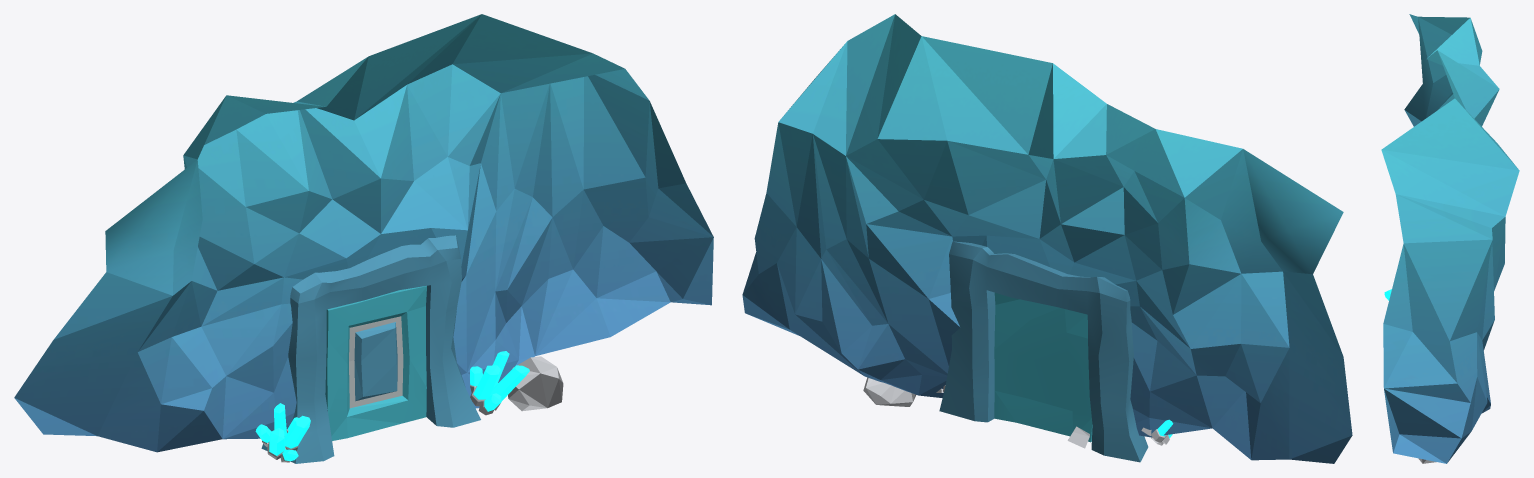
Rendered from iceCaveSingleDoor.fbx.
The picture shows the model from 3 angles, left to right: view 1: azimuth 30°, elevation 25°; view 2: azimuth 150°, elevation 25°; view 3: azimuth 270°, elevation 25°; orthographic projection. The views are drawn at different scales.
Parts seen in each view (by area): view 1: iceCaveSingleDoor, singleDoor; view 2: iceCaveSingleDoor, singleDoor; view 3: iceCaveSingleDoor.
Boxes of the visible parts, x1,y1,x2,y2 form: iceCaveSingleDoor: (14, 14, 713, 463); singleDoor: (325, 286, 426, 440); iceCaveSingleDoor: (742, 14, 1352, 463); singleDoor: (994, 292, 1092, 442); iceCaveSingleDoor: (1381, 14, 1519, 463).
Bounding box in the file's own units: 16.39 × 9.52 × 3.48.
4 materials, 3 textured.
